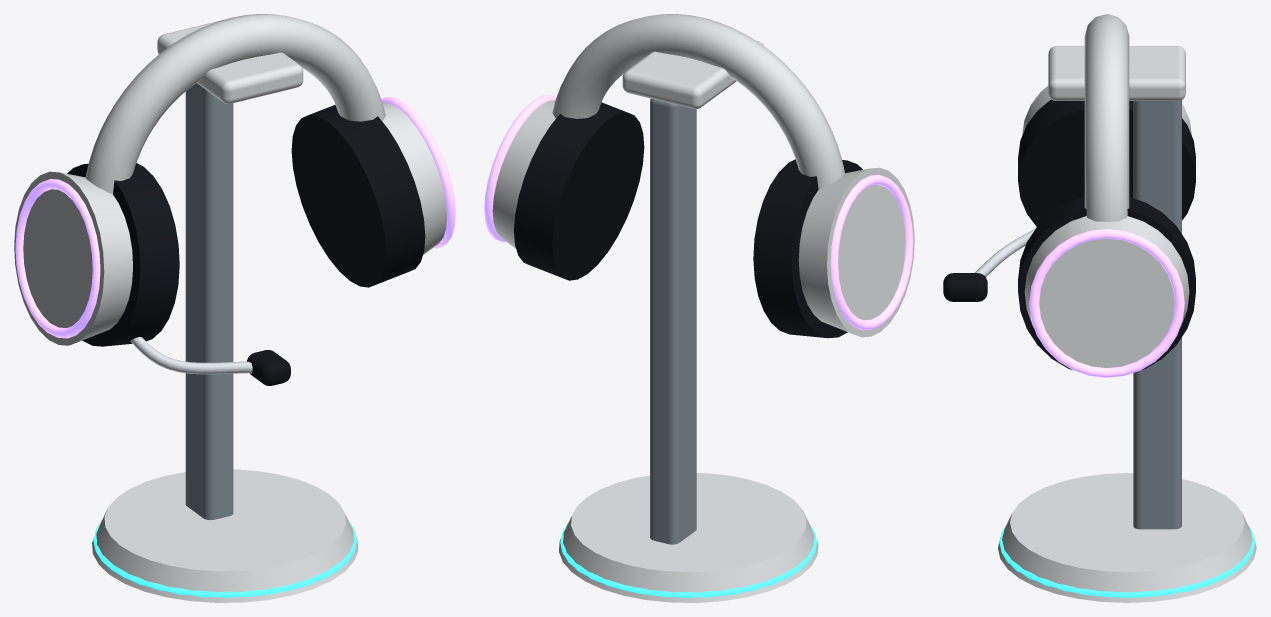
File: atelier-gaming-headset-arctic.glb
3 views of the same model, side by side, from view 1: azimuth 30°, elevation 25°; view 2: azimuth 150°, elevation 25°; view 3: azimuth 270°, elevation 25° (orthographic). The views are drawn at different scales.
Size of the model in its own units: 0.2104 by 0.283 by 0.155.
